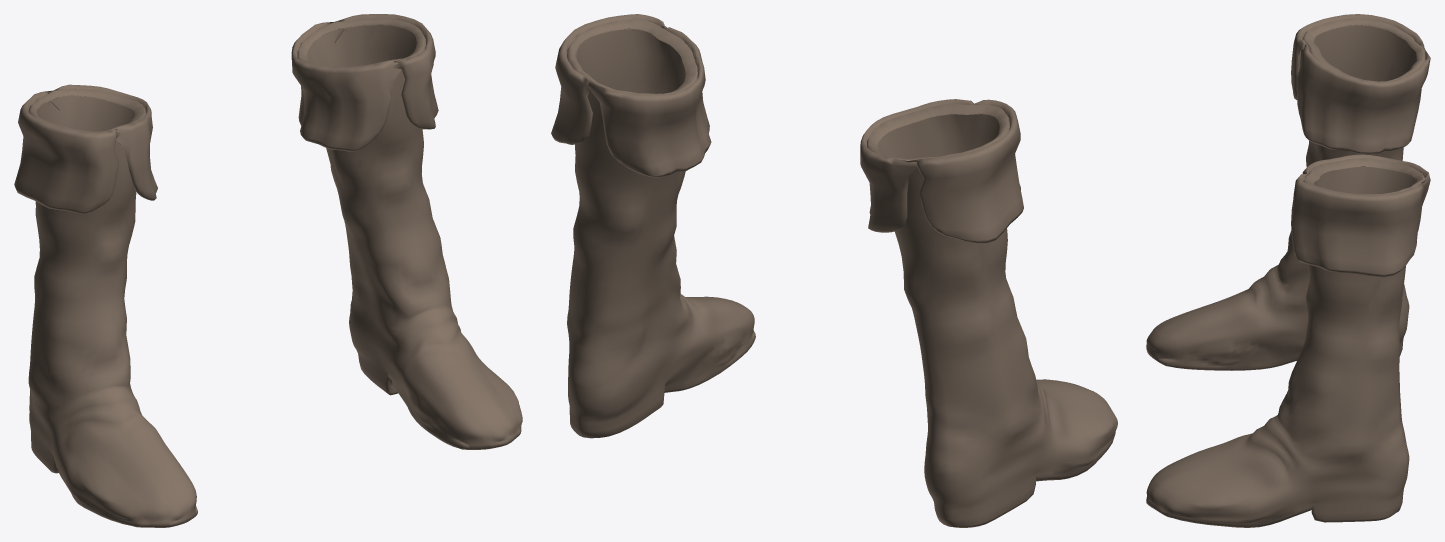
Rendered from travel_shoes.glb.
3 renders of one model, left to right at view 1: azimuth 30°, elevation 25°; view 2: azimuth 150°, elevation 25°; view 3: azimuth 270°, elevation 25°, orthographic. The views are drawn at different scales.
Visible parts, largest first — view 1: TravelShoes; view 2: TravelShoes; view 3: TravelShoes.
Part boxes in pixels (x1,y1,x2,y2): TravelShoes: (14,14,522,527); TravelShoes: (551,14,1117,527); TravelShoes: (1146,14,1430,527).
Size of the model in its own units: 0.5216 by 0.4054 by 0.3157.
